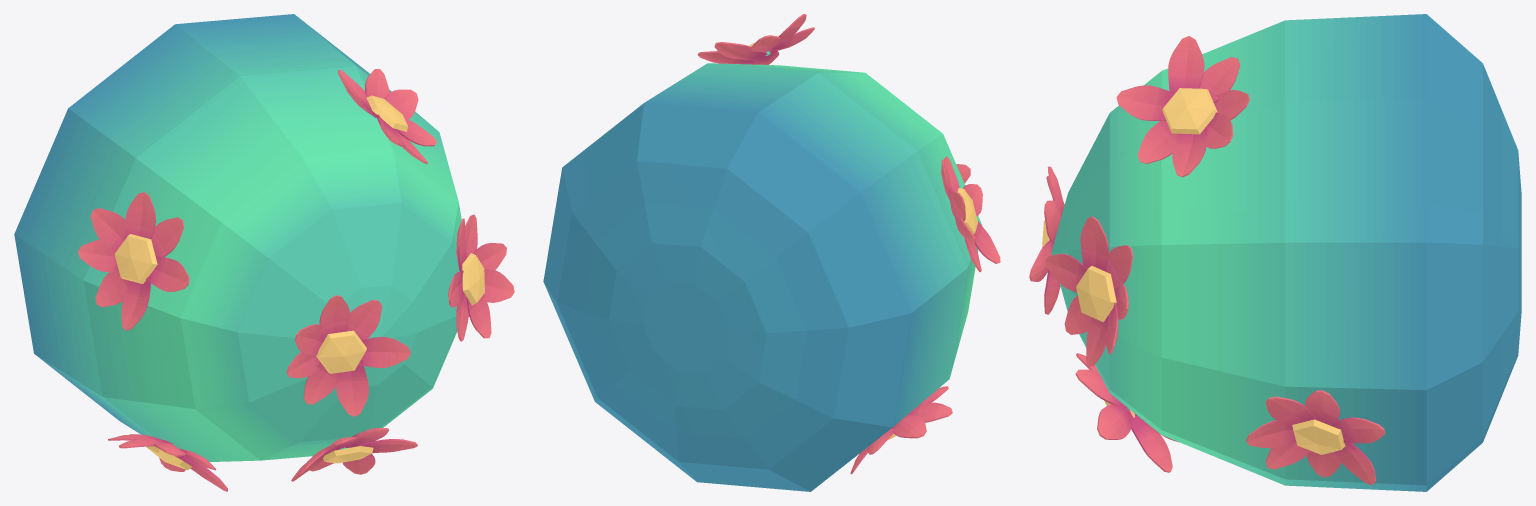
File: bush2.glb
3 views of the same model, side by side, from view 1: azimuth 30°, elevation 25°; view 2: azimuth 150°, elevation 25°; view 3: azimuth 270°, elevation 25° (orthographic). The views are drawn at different scales.
Parts seen in each view (by area): view 1: bush.001_16; view 2: bush.001_16; view 3: bush.001_16.
Part boxes in pixels (x1=…): bush.001_16: x1=14, y1=14, x2=514, y2=491; bush.001_16: x1=543, y1=14, x2=1000, y2=491; bush.001_16: x1=1029, y1=14, x2=1521, y2=491.
Bounding box in the file's own units: 3.58 × 3.52 × 3.46.
1 material, 1 textured.
